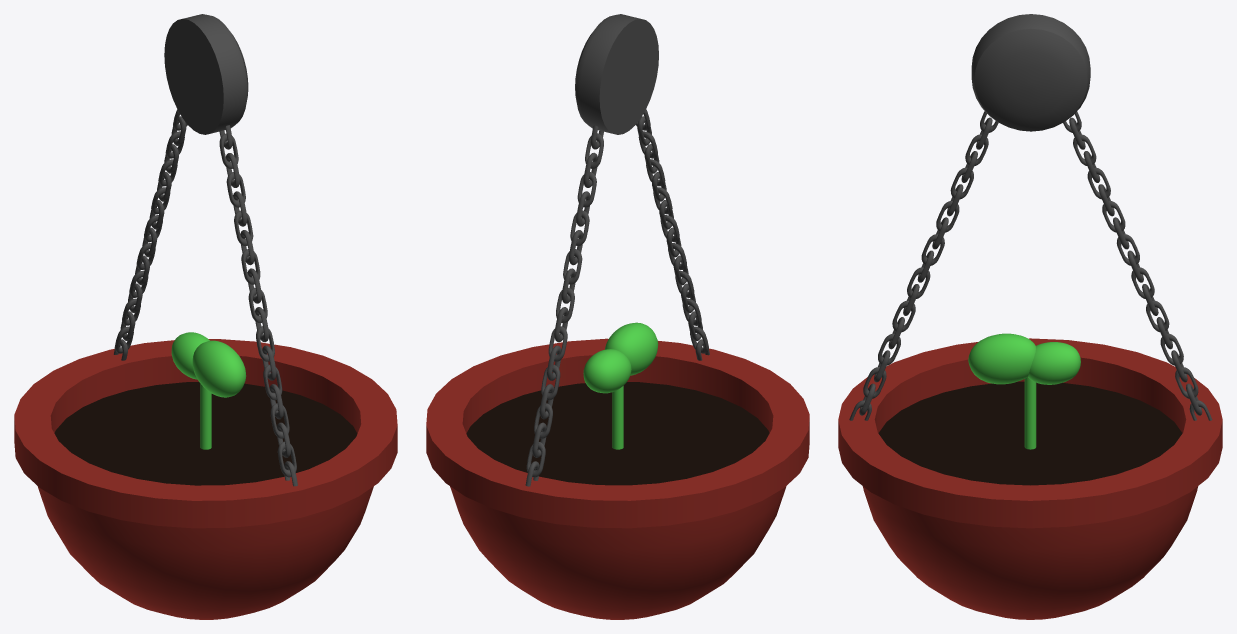
File: Maceta_01.obj
3 renders of one model, left to right at view 1: azimuth 30°, elevation 25°; view 2: azimuth 150°, elevation 25°; view 3: azimuth 270°, elevation 25°, orthographic.
Parts seen in each view (by area): view 1: Cylinder.005; view 2: Cylinder.005; view 3: Cylinder.005.
Boxes of the visible parts, <box> form: Cylinder.005: <box>14,14,397,619</box>; Cylinder.005: <box>426,14,809,619</box>; Cylinder.005: <box>838,14,1222,619</box>.
Bounding box in the file's own units: 0.7166 × 1.2 × 0.7166.
